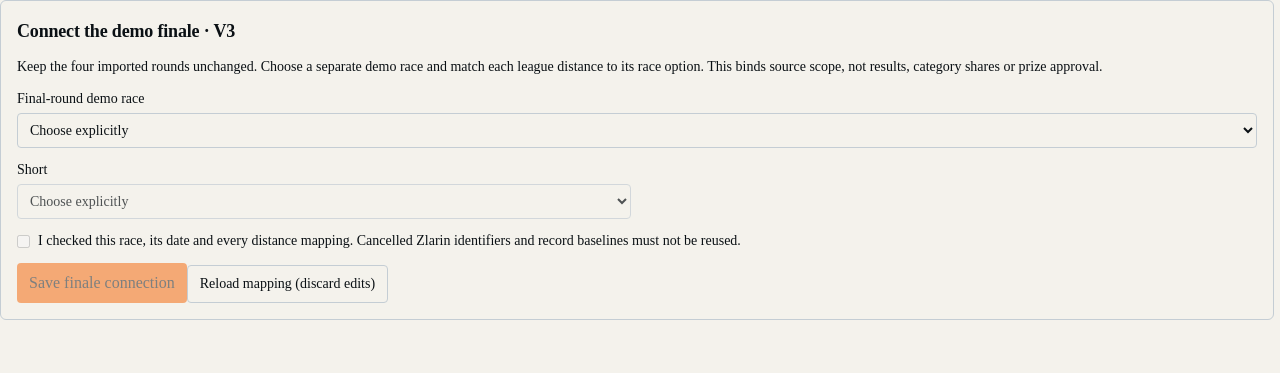
Scenario: requires explicit event, race and confirmation, then reloads the shared mapping without approving prizes
Check: the button "Save finale connection" is disabled, box [17,263,187,303]
Step 1. Select "Synthetic finale · 2026-10-03" in the dropdown labelled "Final-round demo race" → {"x": 637, "y": 130}, box [17,113,1257,148]
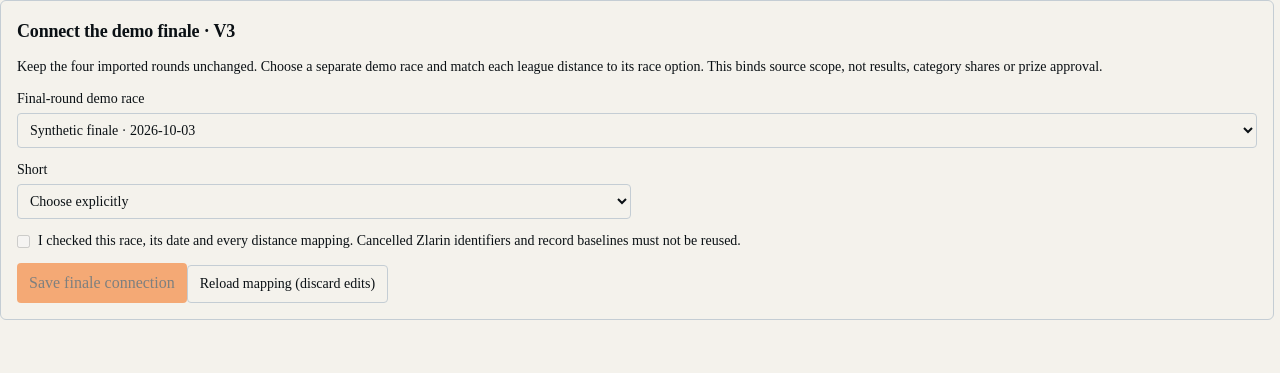
Step 2. Select "Synthetic short · 5 km" in the dropdown named "Demo race for Short" → {"x": 324, "y": 202}, box [17,184,631,219]
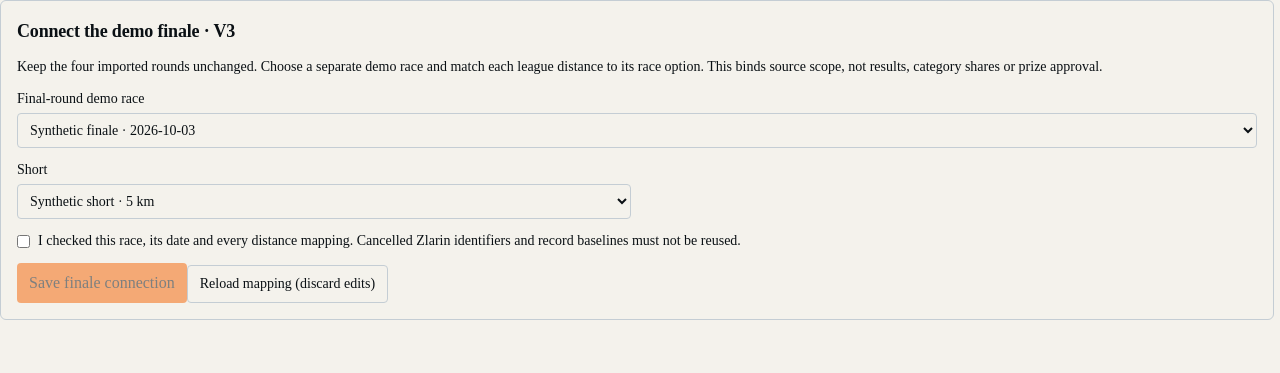
Step 3. Click the checkbox → {"x": 24, "y": 242}, box [17,235,30,248]
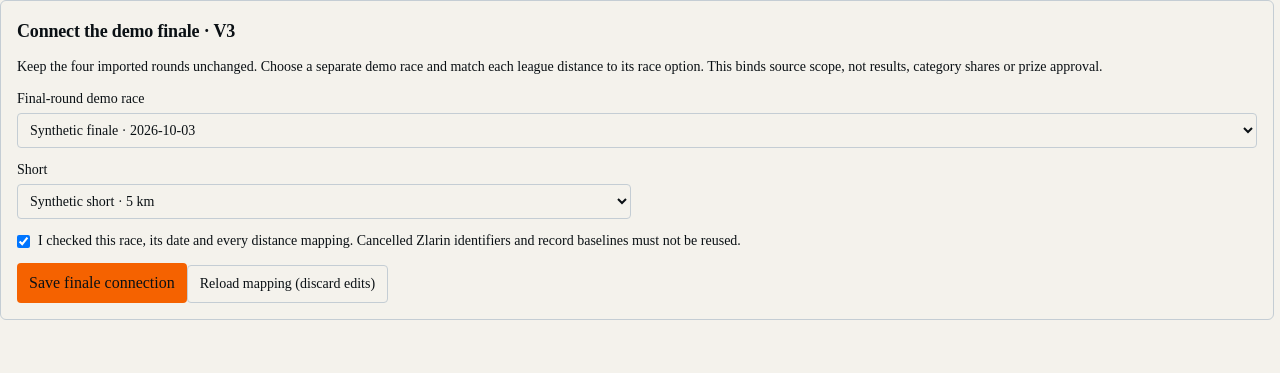
Step 4. Click the button "Save finale connection" → {"x": 102, "y": 283}, box [17,263,187,303]
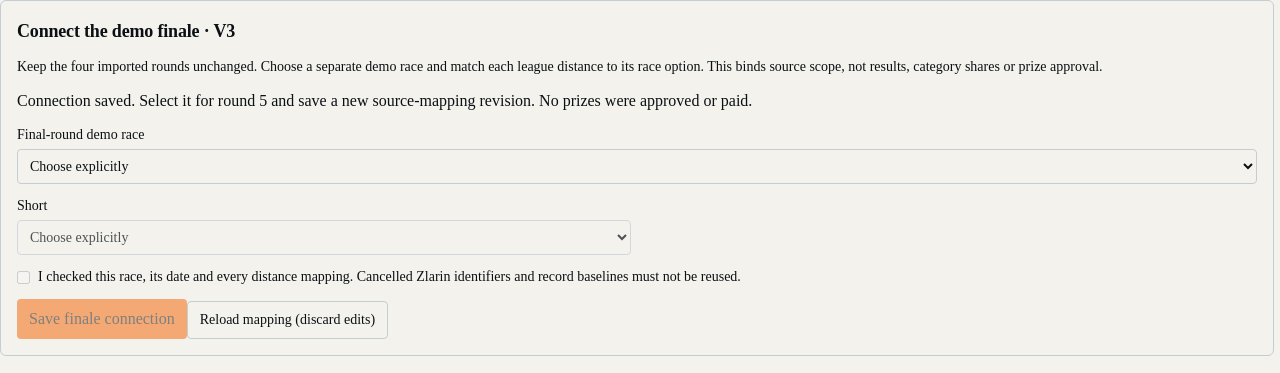
Check: the text "Connection saved. Select it for round 5" is shown, box [17,92,752,109]
